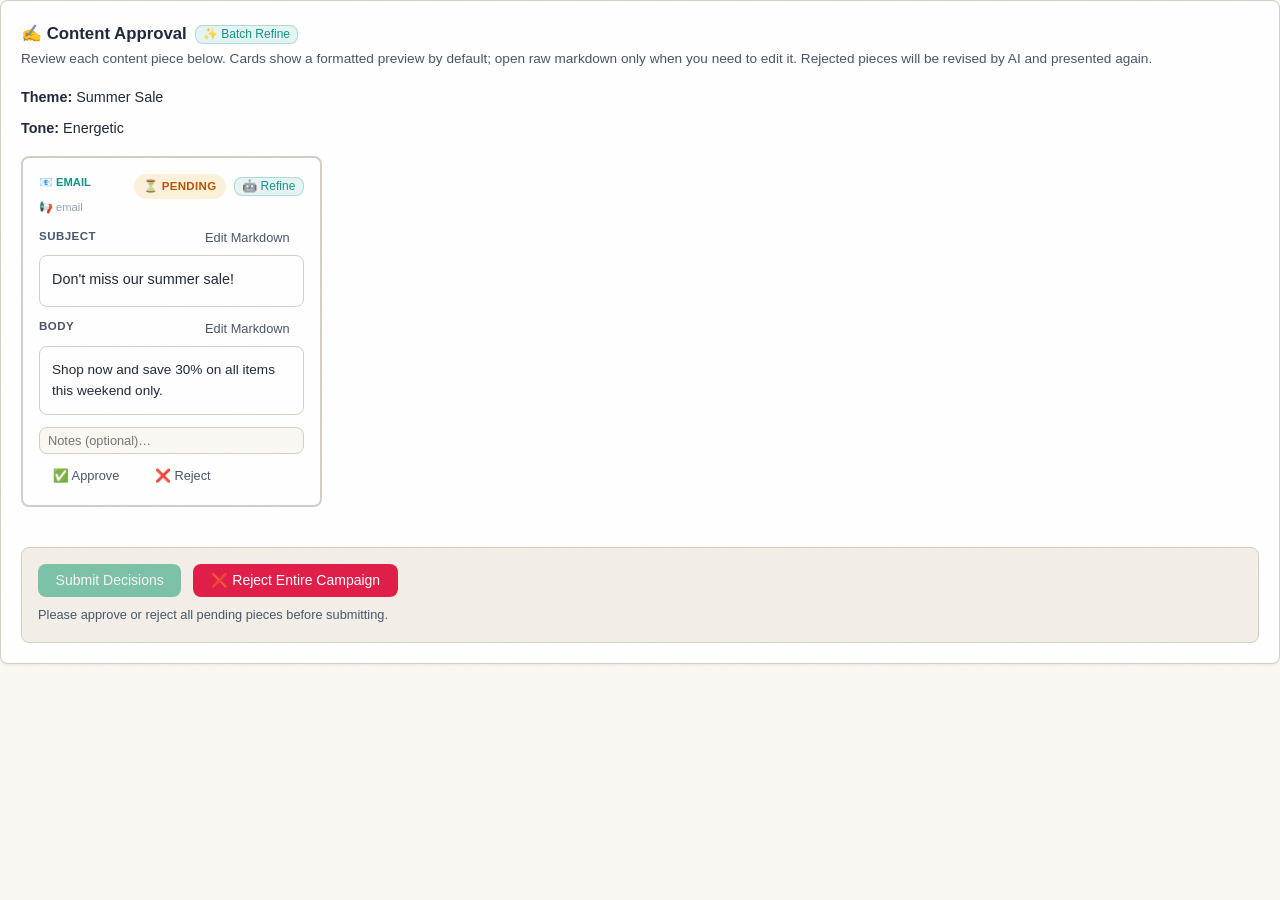
ContentSection – combined email card › shows rendered preview by default in approval mode and can toggle raw markdown editing
Expected: the text "Don't miss our summer sale!" is shown, [52,271,234,287]
Expected: the text "Shop now and save 30% on all items this weekend only." is shown, [52,359,290,402]
Click the button "Edit Markdown" next to "Subject" at coordinates (247, 238), box [191,224,304,251]
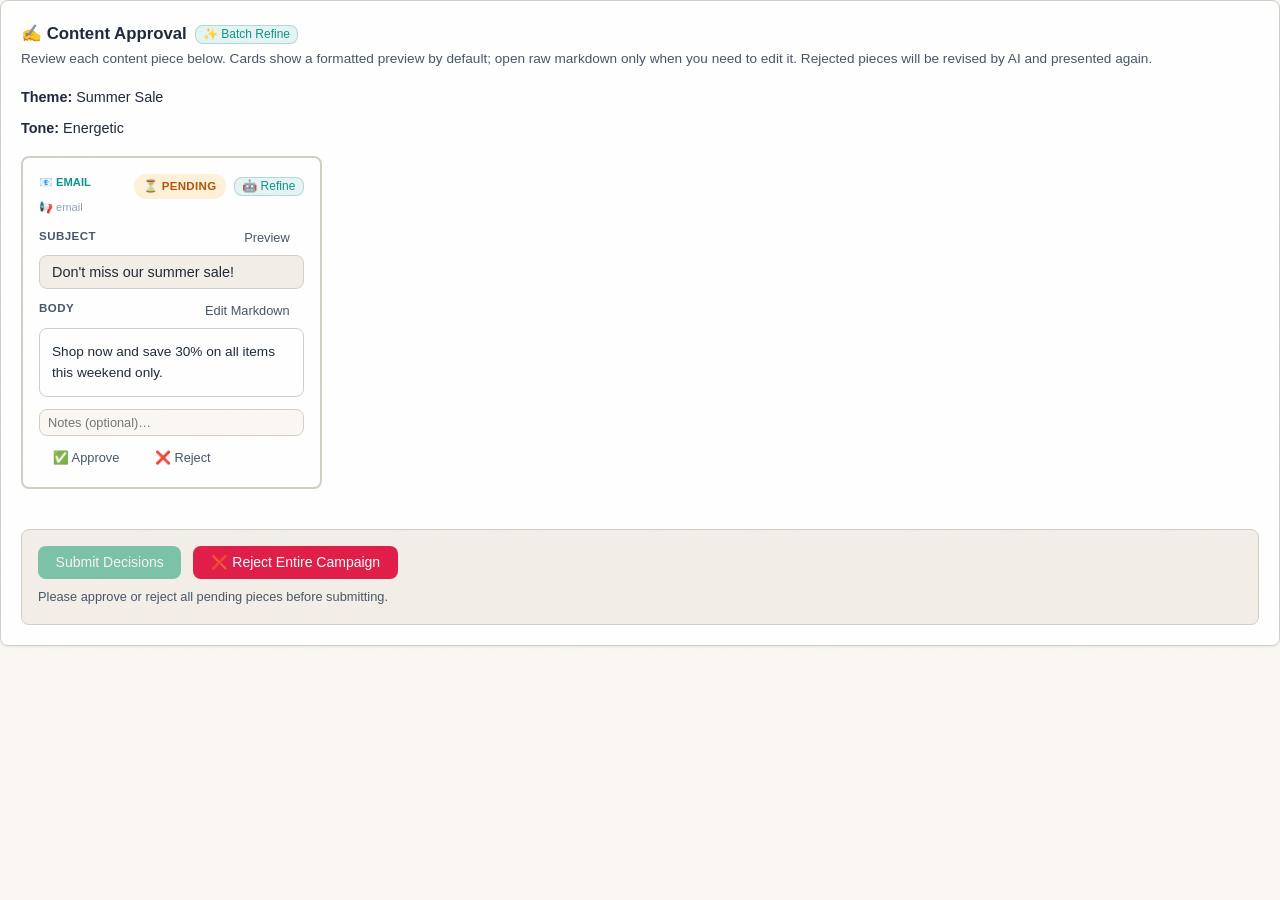
Click the button "Edit Markdown" at coordinates (247, 310), box [191,297,304,324]
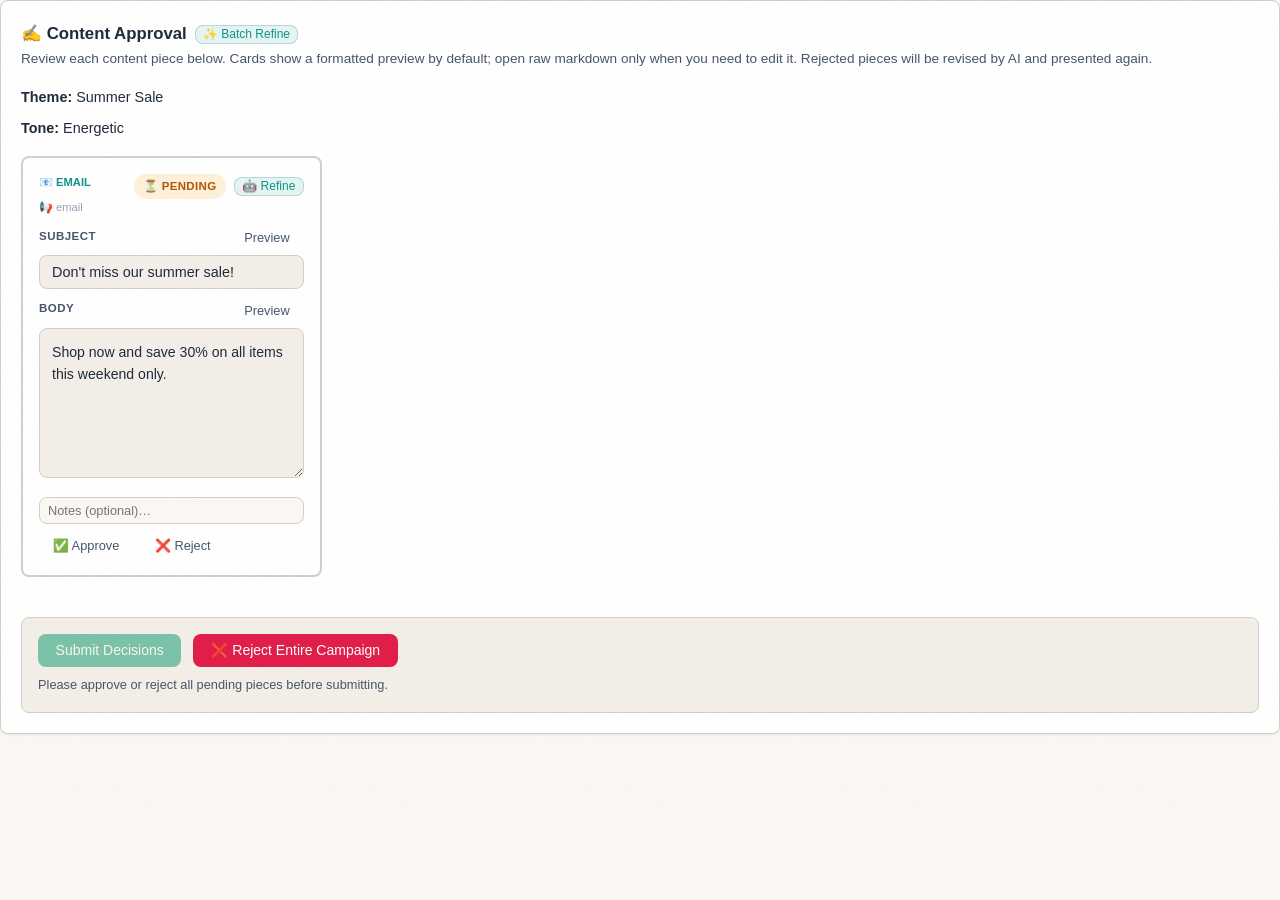
Now the field showing "Don't miss our summer sale!" is shown, box [39,255,304,289]
Now the text box showing "Shop now and save 30% on all items this weekend only." is shown, box [39,328,304,478]
